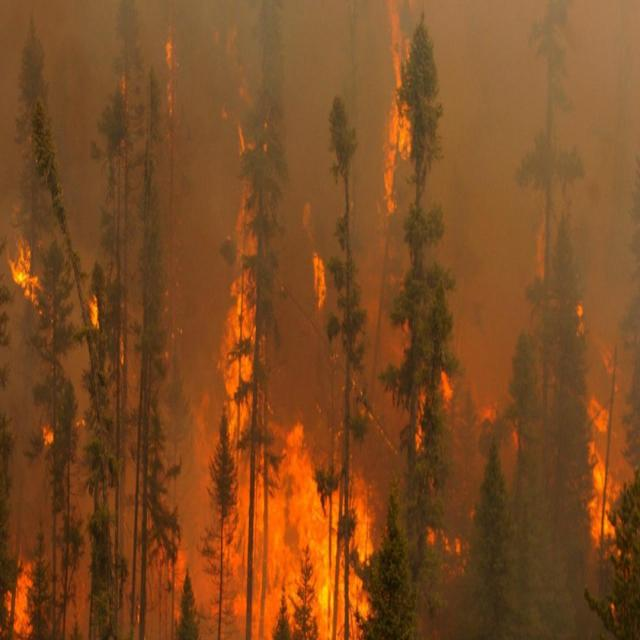Fire: (207, 176, 370, 633), (574, 312, 627, 542), (385, 22, 406, 216), (10, 230, 52, 320), (411, 368, 453, 444), (430, 517, 468, 570), (8, 552, 34, 628), (165, 36, 175, 116), (87, 294, 101, 326), (42, 424, 55, 446)
